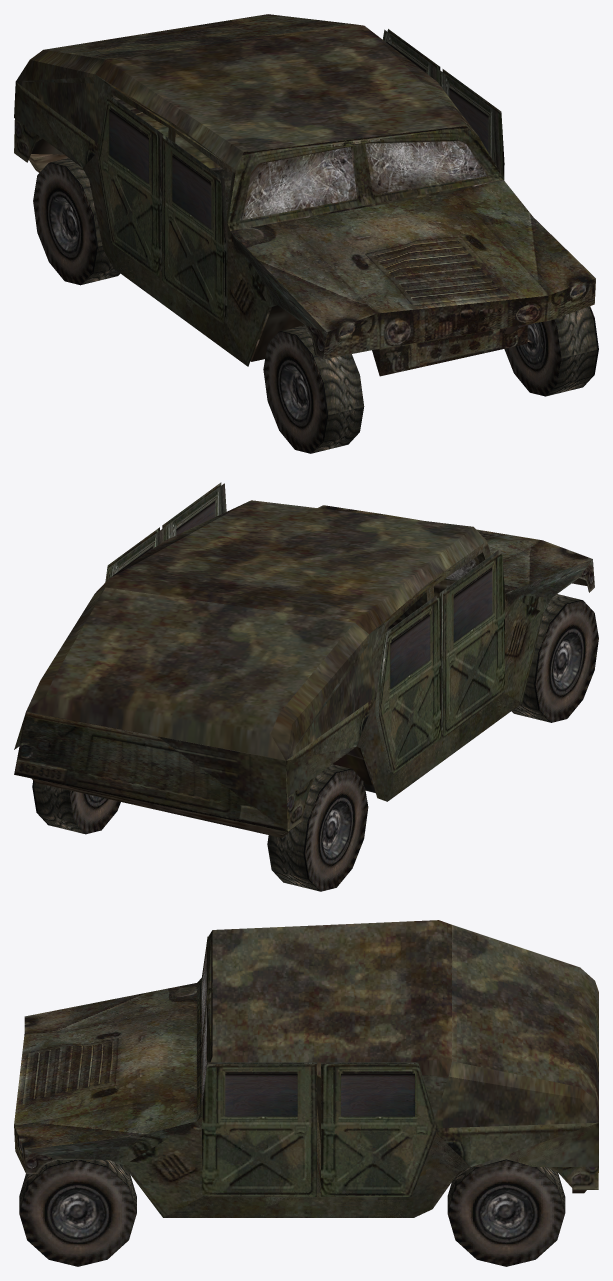
The model's file is FHum2X.glb.
The picture shows the model from 3 angles, top to bottom: view 1: azimuth 30°, elevation 25°; view 2: azimuth 150°, elevation 25°; view 3: azimuth 270°, elevation 25°; orthographic projection. The views are drawn at different scales.
Visible parts, largest first — view 1: _FHum2X; view 2: _FHum2X; view 3: _FHum2X.
Boxes of the visible parts, box(x1,y1,x2,y2) form: _FHum2X: box(14, 14, 598, 453); _FHum2X: box(14, 482, 598, 891); _FHum2X: box(14, 920, 598, 1266).
Size of the model in its own units: 2.56 by 2.13 by 4.98.
4 materials, 4 textured.
